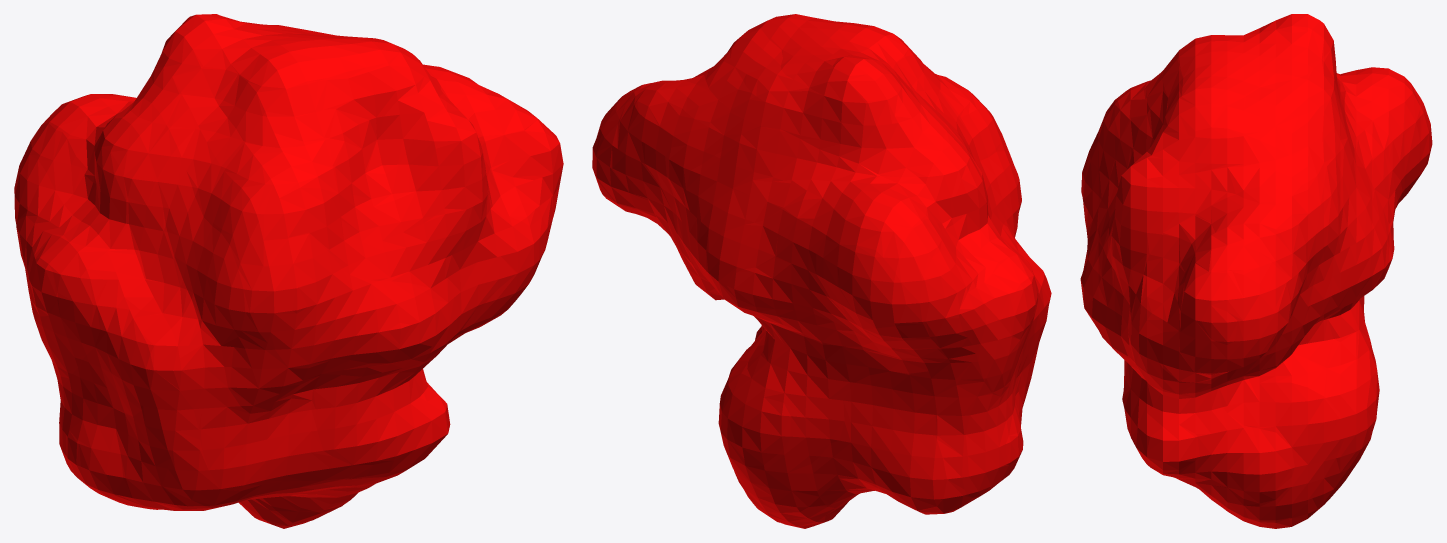
File: gstB_coarse.dae
3 views of the same model, side by side, from view 1: azimuth 30°, elevation 25°; view 2: azimuth 150°, elevation 25°; view 3: azimuth 270°, elevation 25° (orthographic). The views are drawn at different scales.
Parts seen in each view (by area): view 1: gstB; view 2: gstB; view 3: gstB.
Part boxes in pixels (bbox=[...]): gstB: bbox=[14, 14, 563, 528]; gstB: bbox=[592, 14, 1051, 528]; gstB: bbox=[1080, 14, 1432, 528].
Size of the model in its own units: 55.18 by 55.83 by 37.3.
